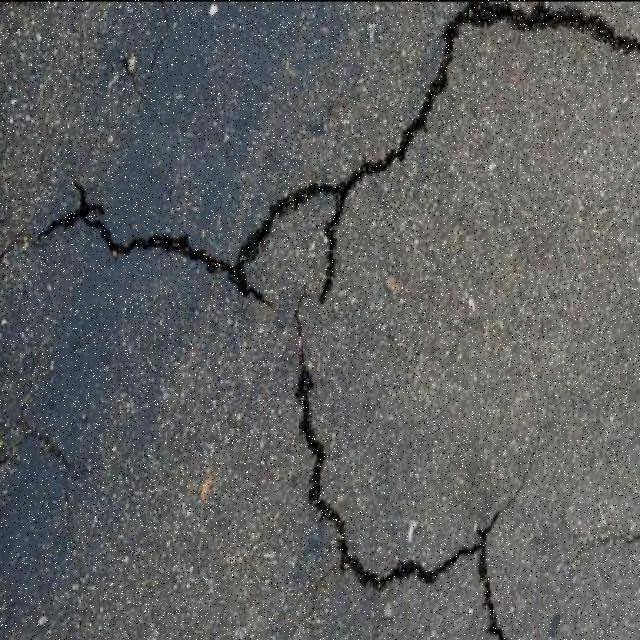Crack: (38, 0, 640, 305), (294, 350, 525, 640)
